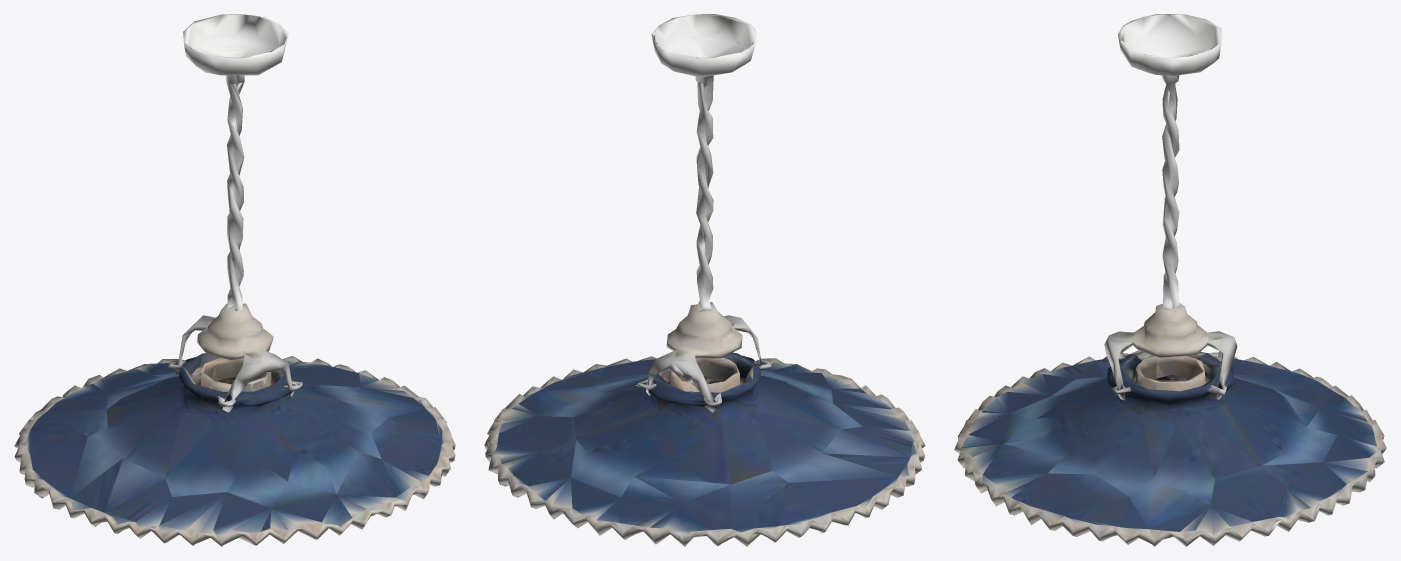
File: tavan_lambasi.glb
3 renders of one model, left to right at view 1: azimuth 30°, elevation 25°; view 2: azimuth 150°, elevation 25°; view 3: azimuth 270°, elevation 25°, orthographic.
Visible parts, largest first — view 1: Mesh_0; view 2: Mesh_0; view 3: Mesh_0.
Part boxes in pixels (left/top/right/bottom): Mesh_0: left=14, top=14, right=455, bottom=546; Mesh_0: left=484, top=14, right=925, bottom=546; Mesh_0: left=954, top=14, right=1386, bottom=546.
Bounding box in the file's own units: 0.5911 × 0.7 × 0.579.
Materials: 1 (1 with a texture image).
